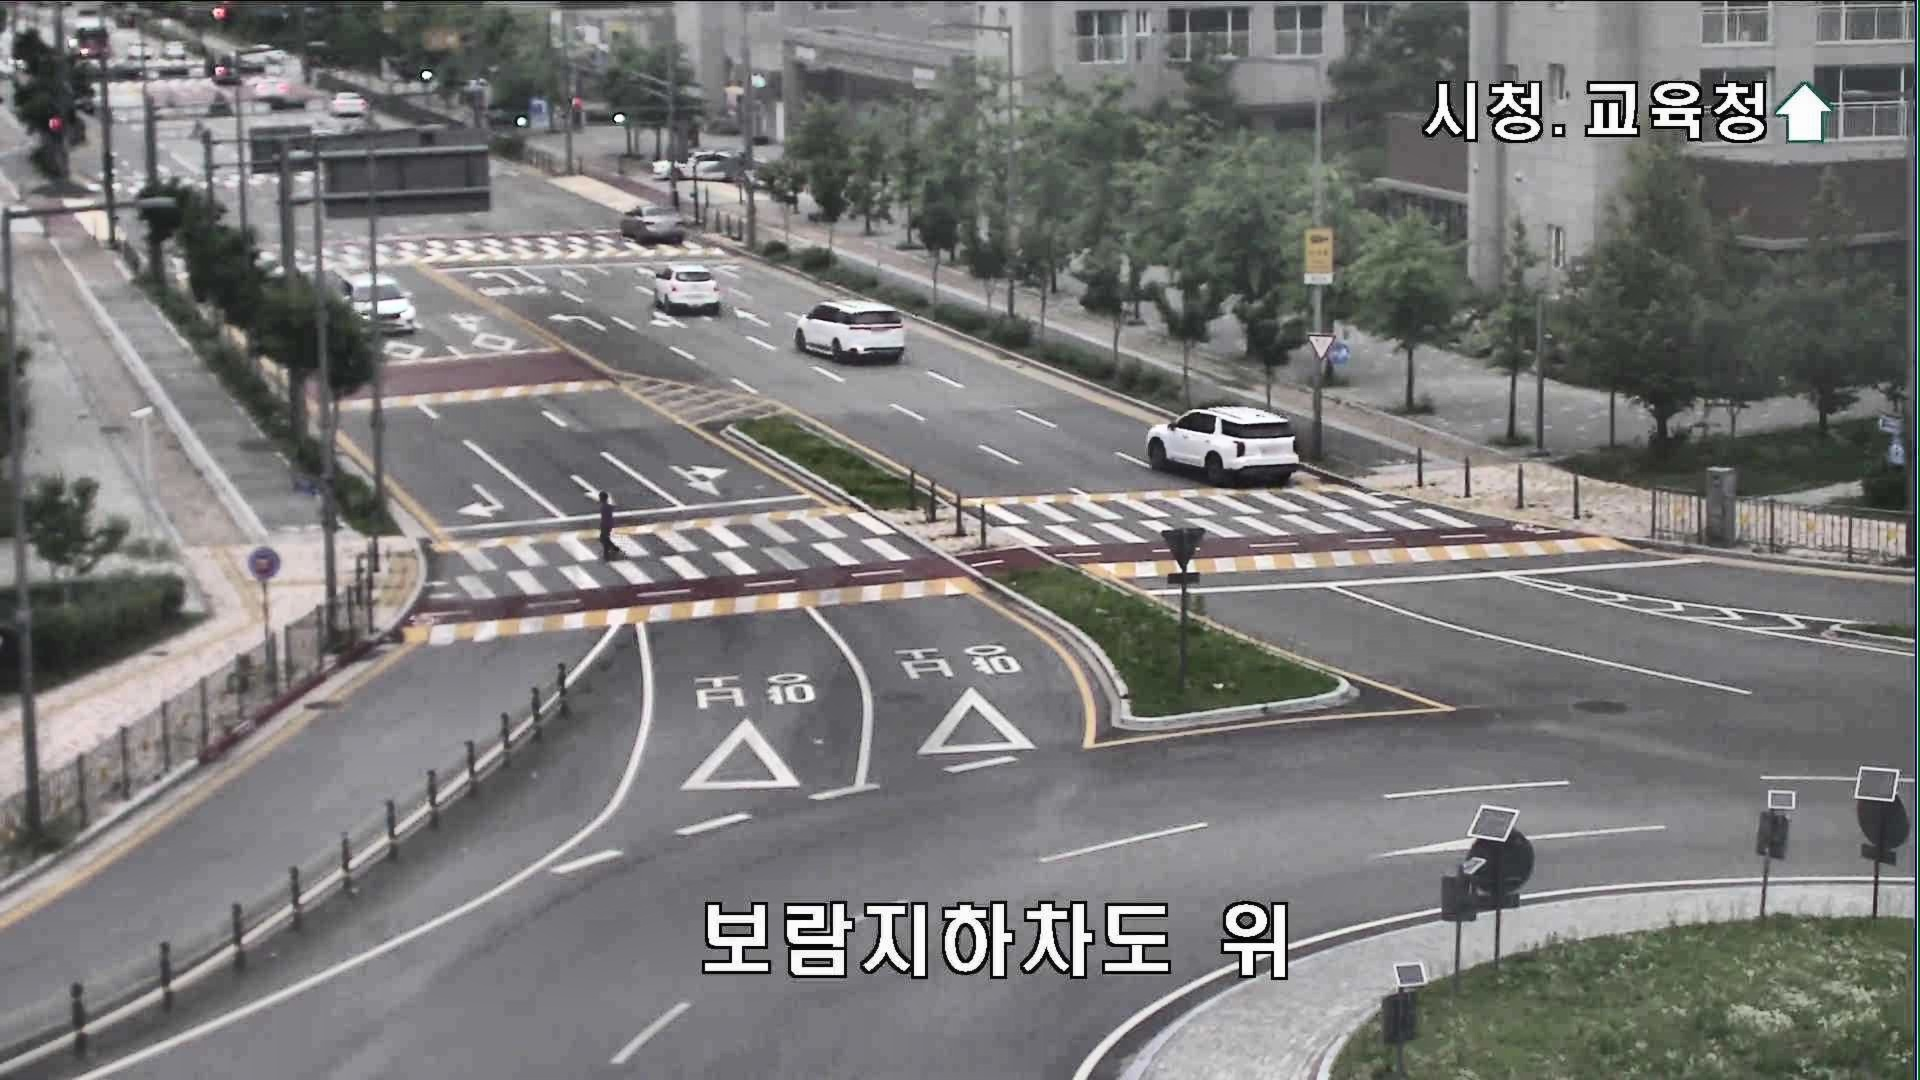crosswalk: (593, 491, 626, 560)
